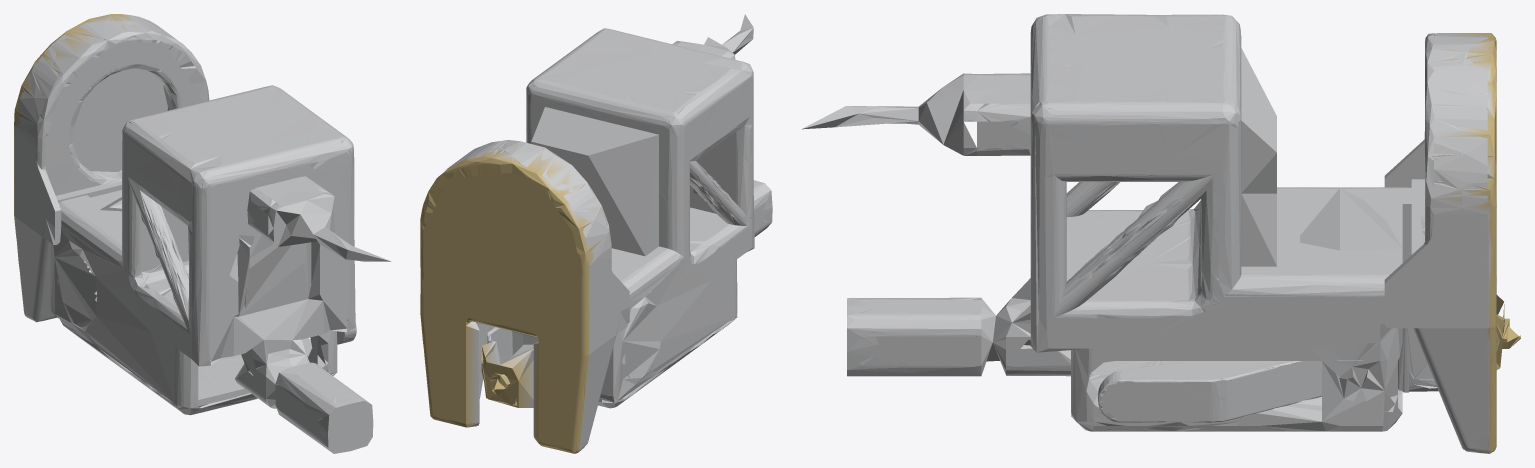
File: nozzle.glb
3 renders of one model, left to right at view 1: azimuth 30°, elevation 25°; view 2: azimuth 150°, elevation 25°; view 3: azimuth 270°, elevation 25°, orthographic. The views are drawn at different scales.
Parts seen in each view (by area): view 1: geometry_0; view 2: geometry_0; view 3: geometry_0.
Part boxes in pixels (left/top/right/bottom): geometry_0: left=14, top=14, right=391, bottom=453; geometry_0: left=420, top=14, right=772, bottom=453; geometry_0: left=801, top=14, right=1520, bottom=453.
Bounding box in the file's own units: 63 × 89.73 × 161.
